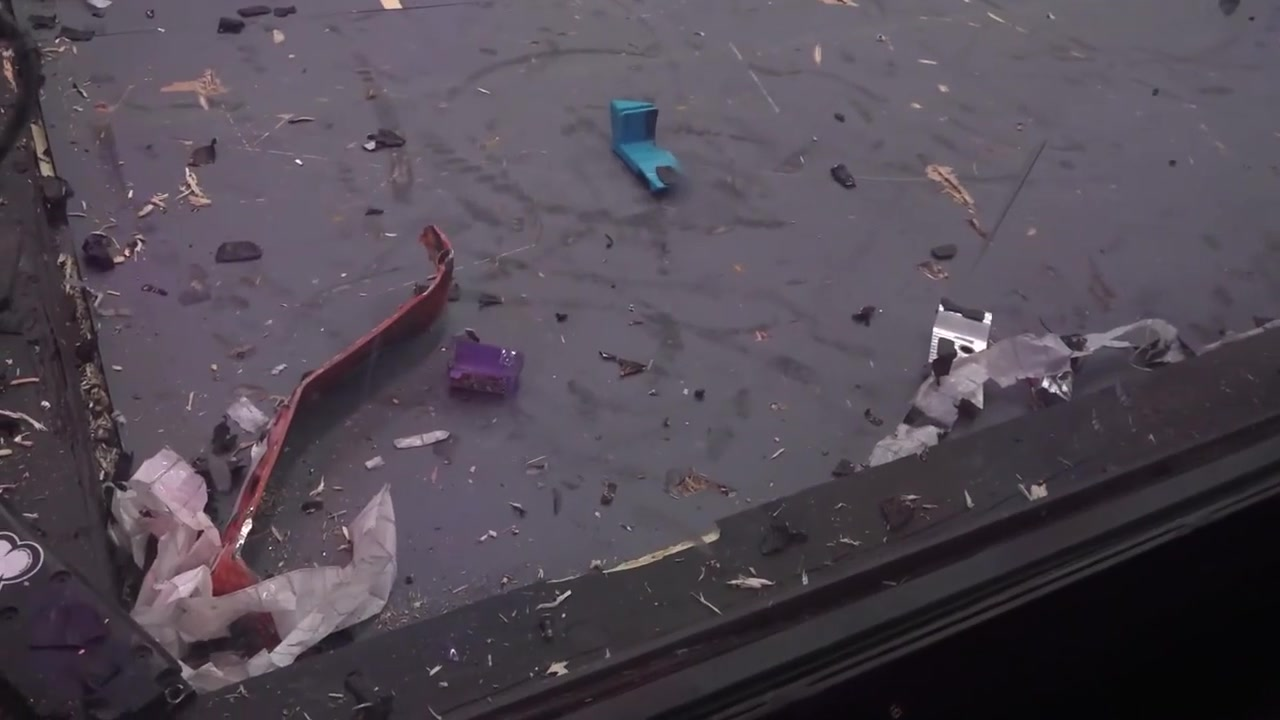debris: (214, 223, 455, 592), (611, 97, 686, 194), (928, 294, 991, 408), (449, 336, 522, 398)
